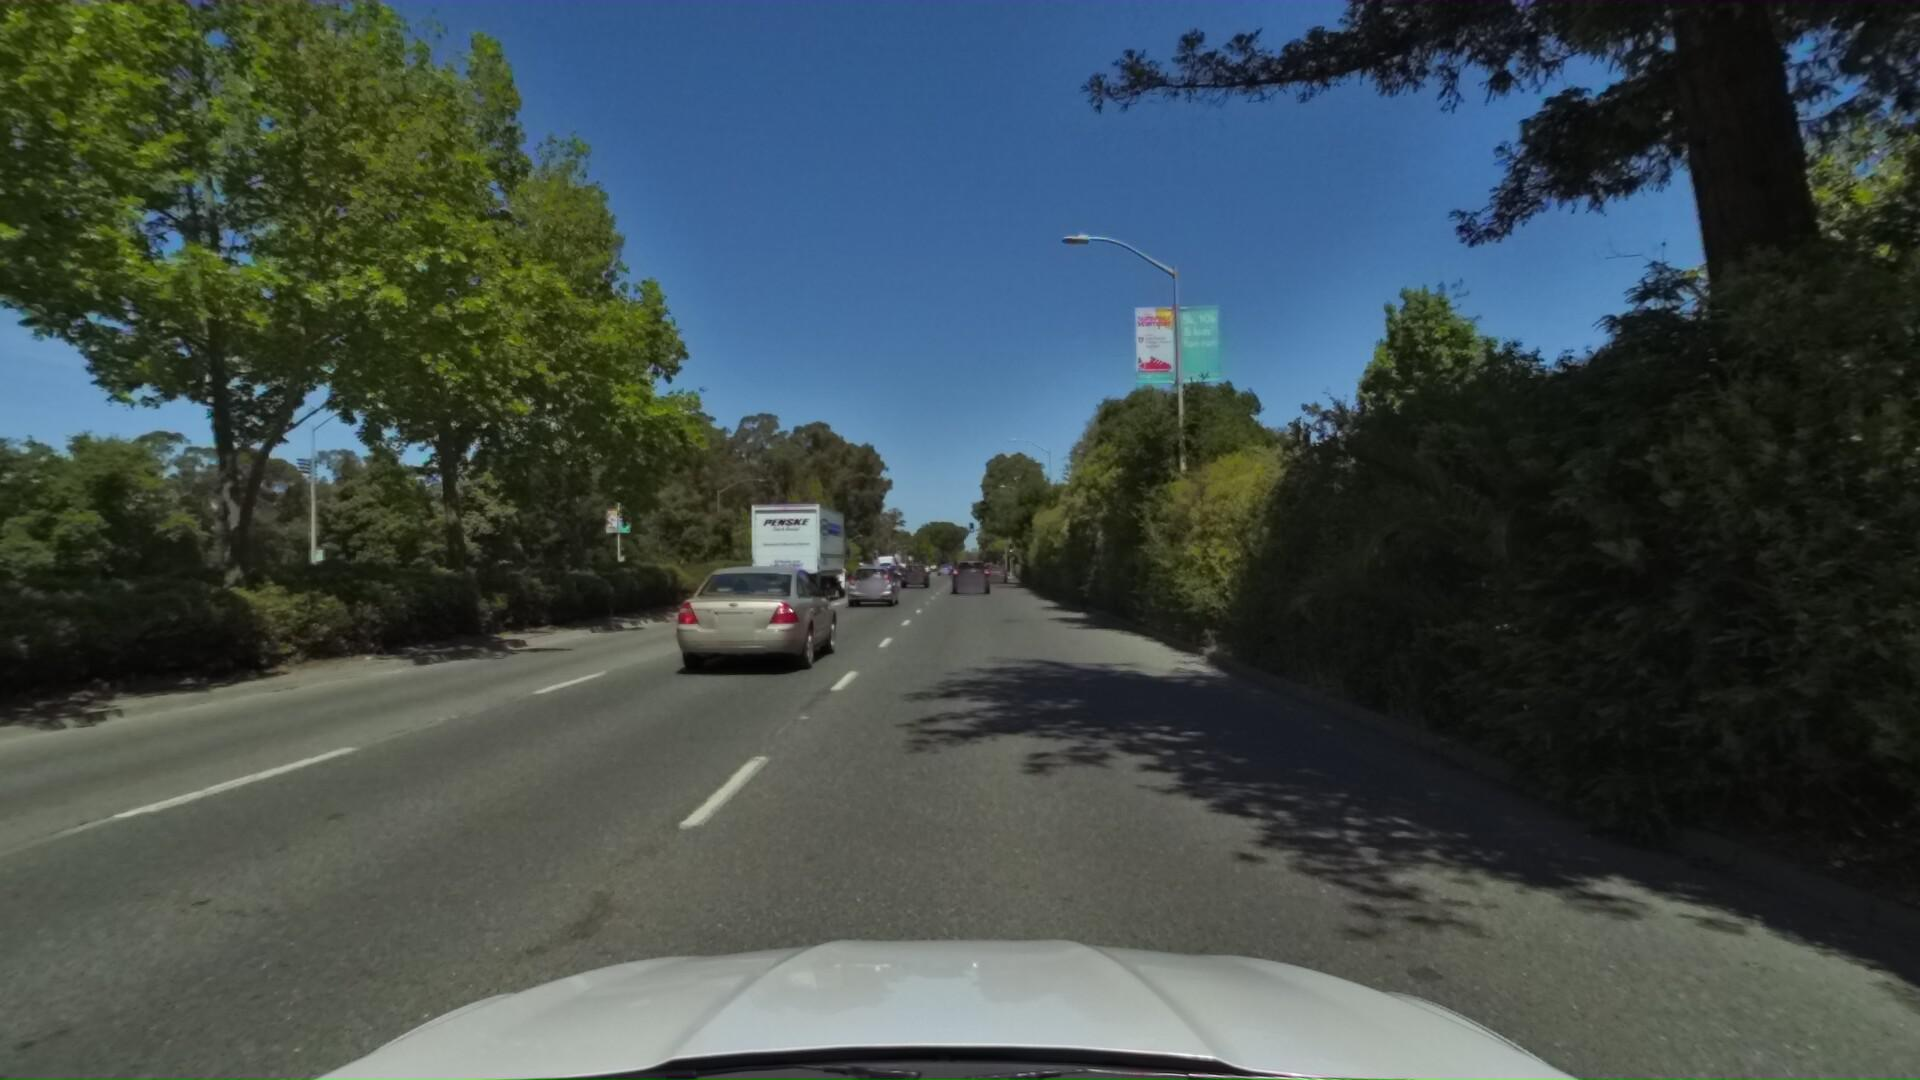car: (665, 556, 848, 683), (843, 562, 903, 607), (945, 555, 992, 596), (893, 558, 931, 589), (985, 556, 1011, 579)
truck: (746, 495, 858, 607)
